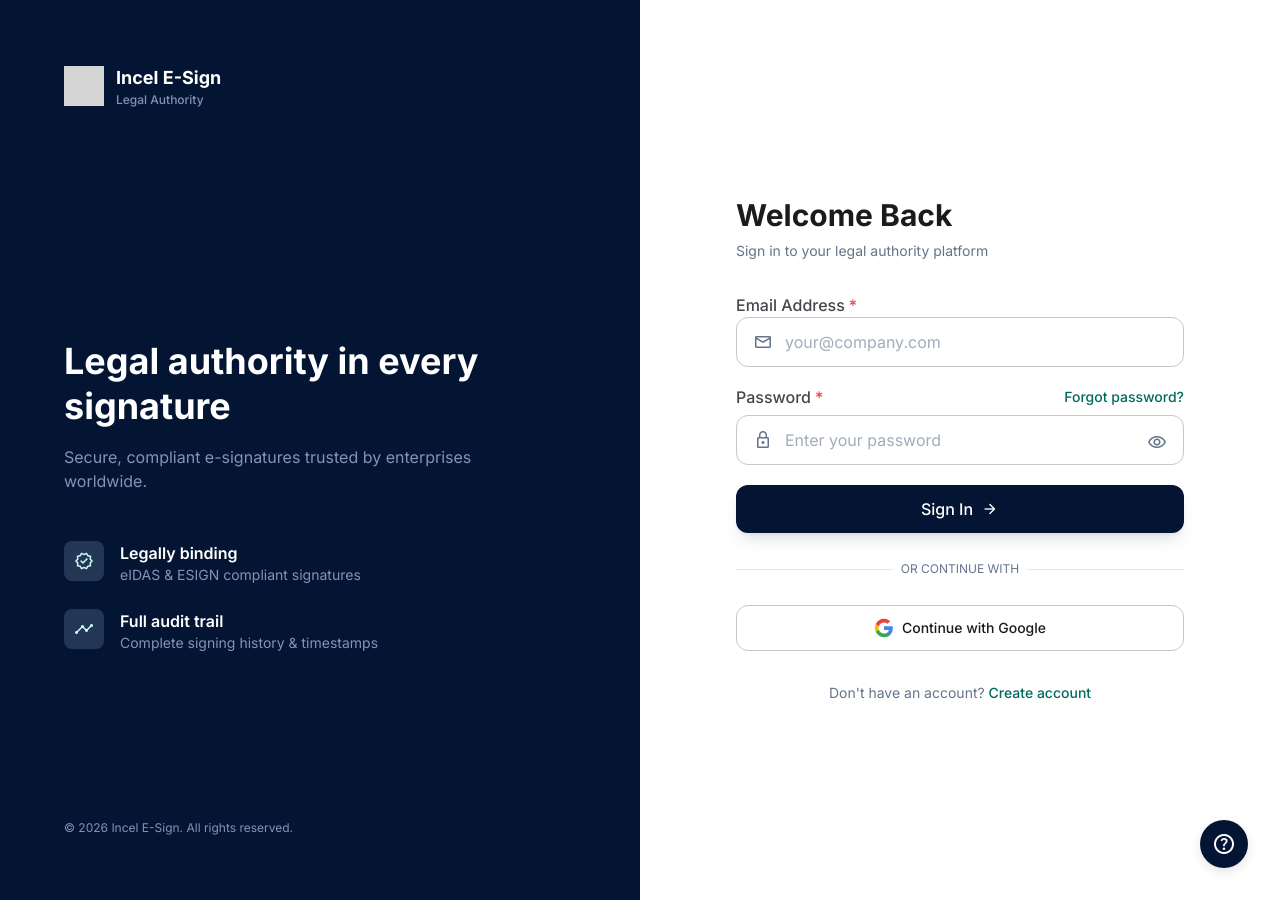
Test: LoginPage › shows error message when login fails
Type "test@example.com" into the field labelled "Email Address*" at (960, 342), box [737,318,1183,366]
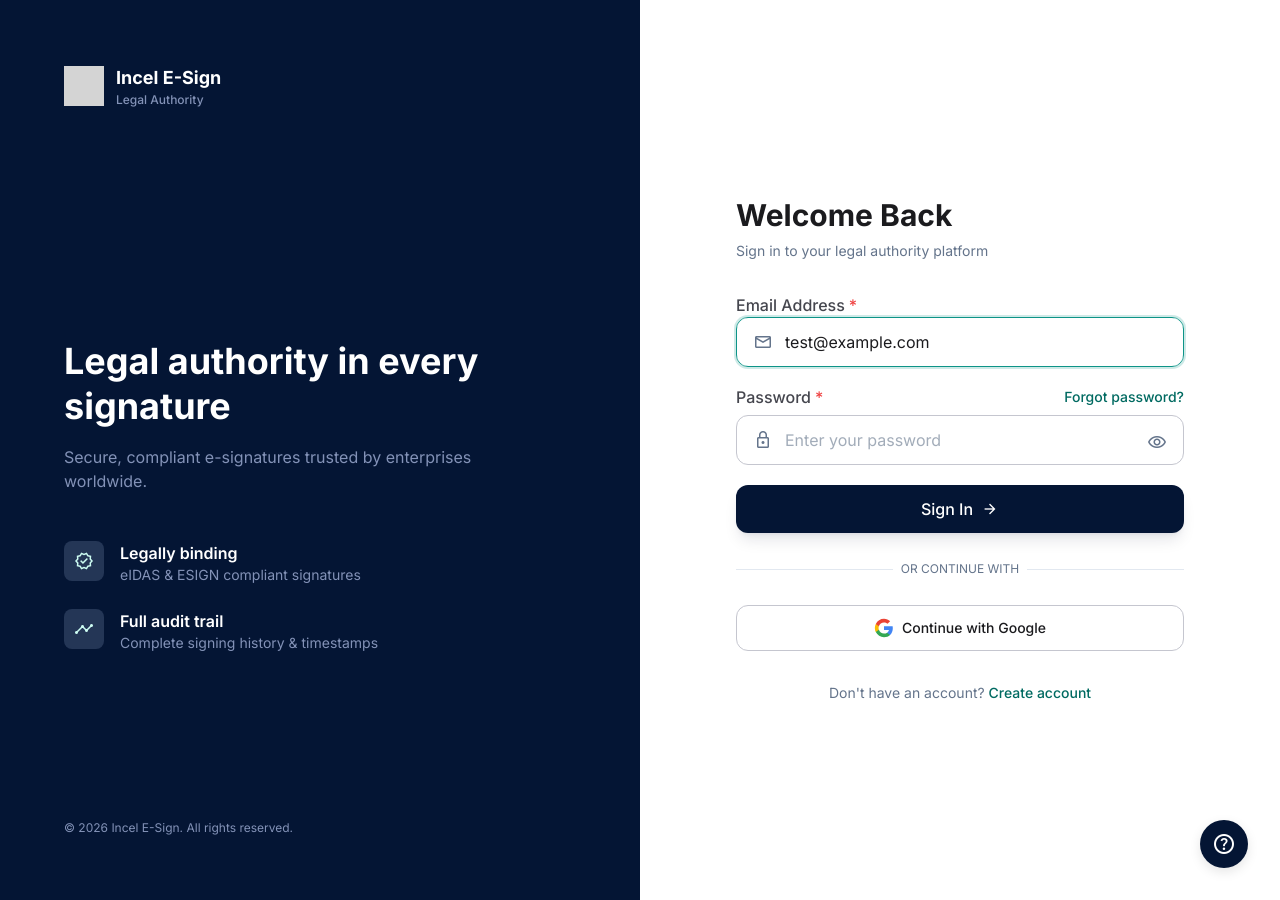
Type "wrongpassword" into the password field labelled "Password*" at (960, 440), box [737,416,1183,464]
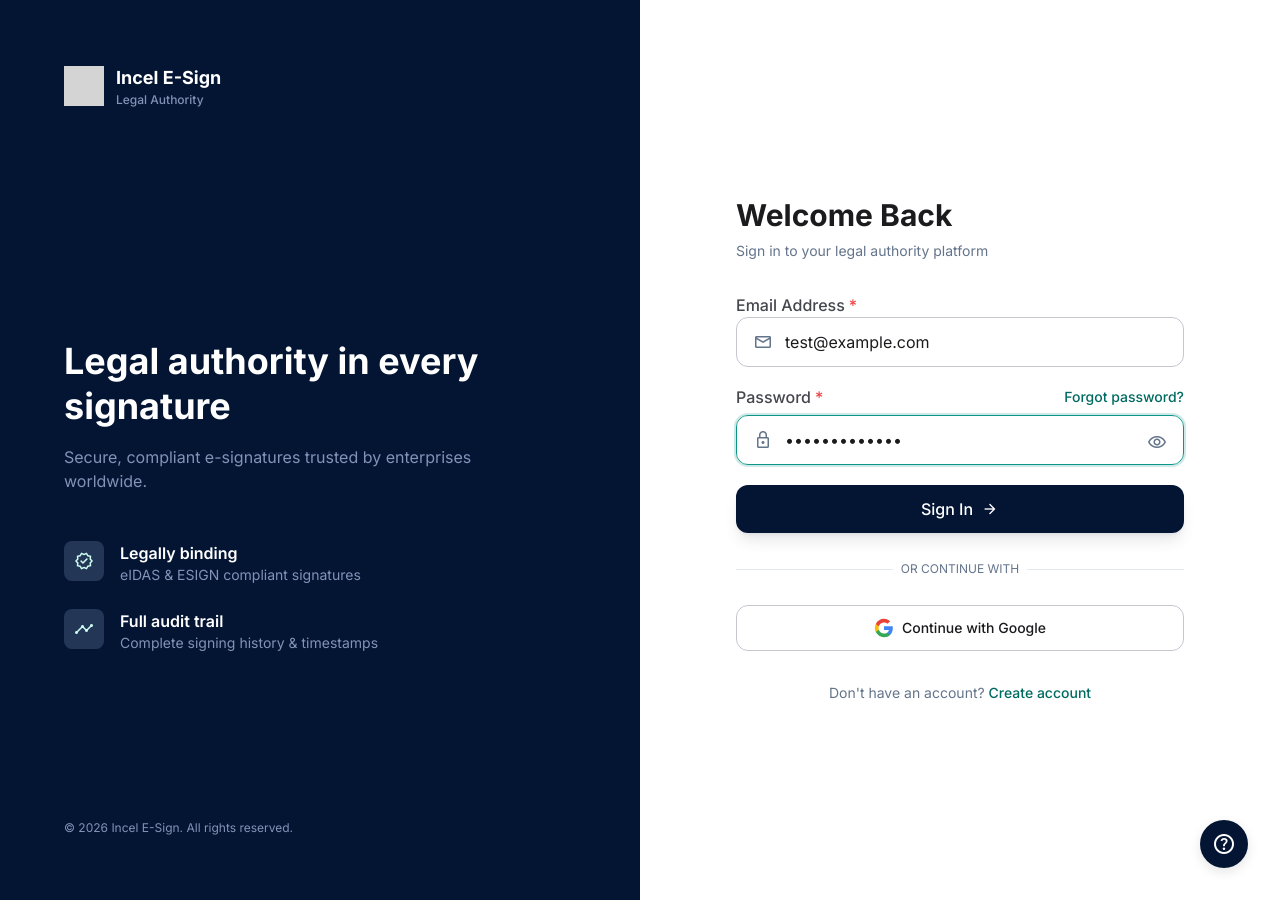
Click the button "Sign In" at (960, 509), box [736,485,1184,533]
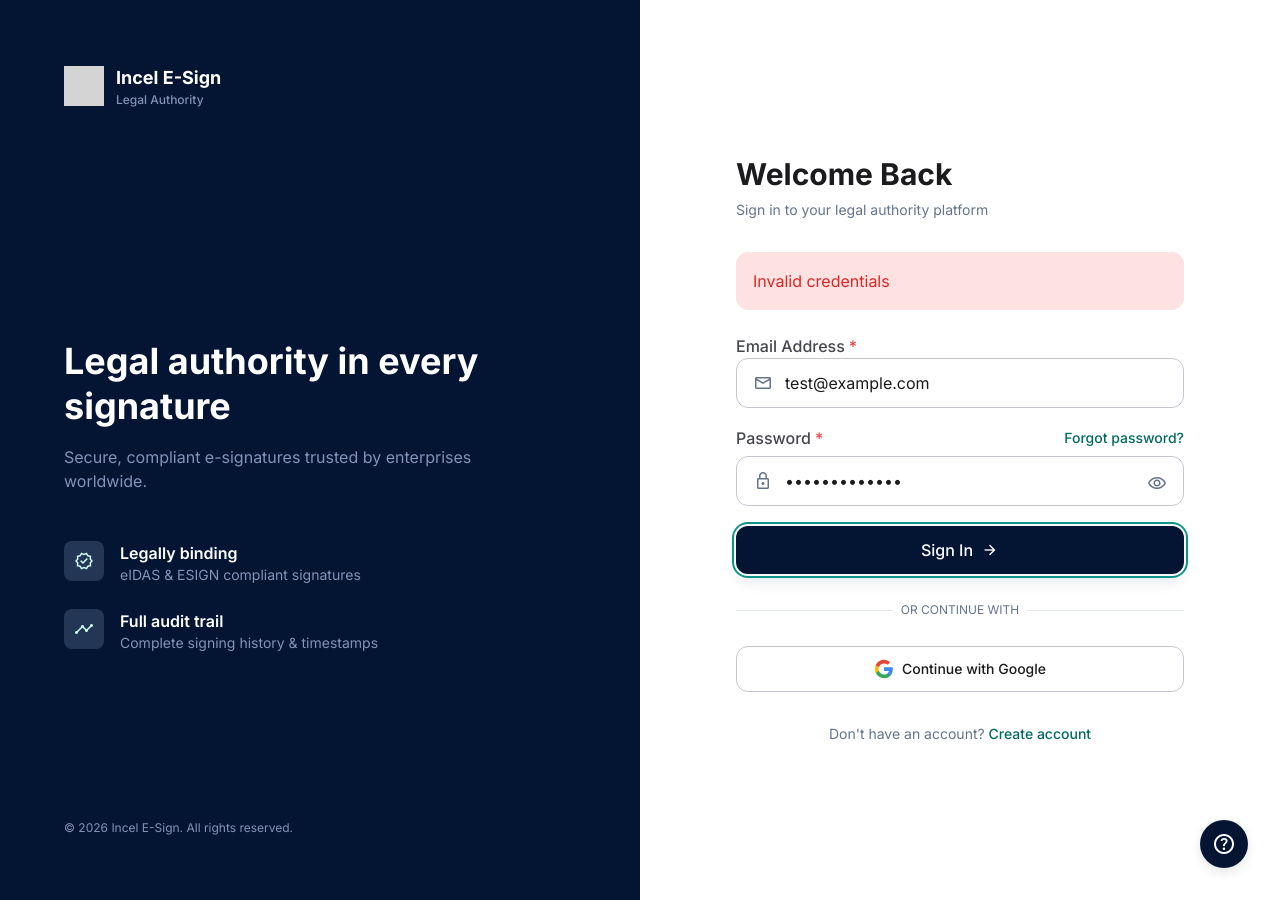
Result: the text "Invalid credentials" is shown at [753,271,890,291]
